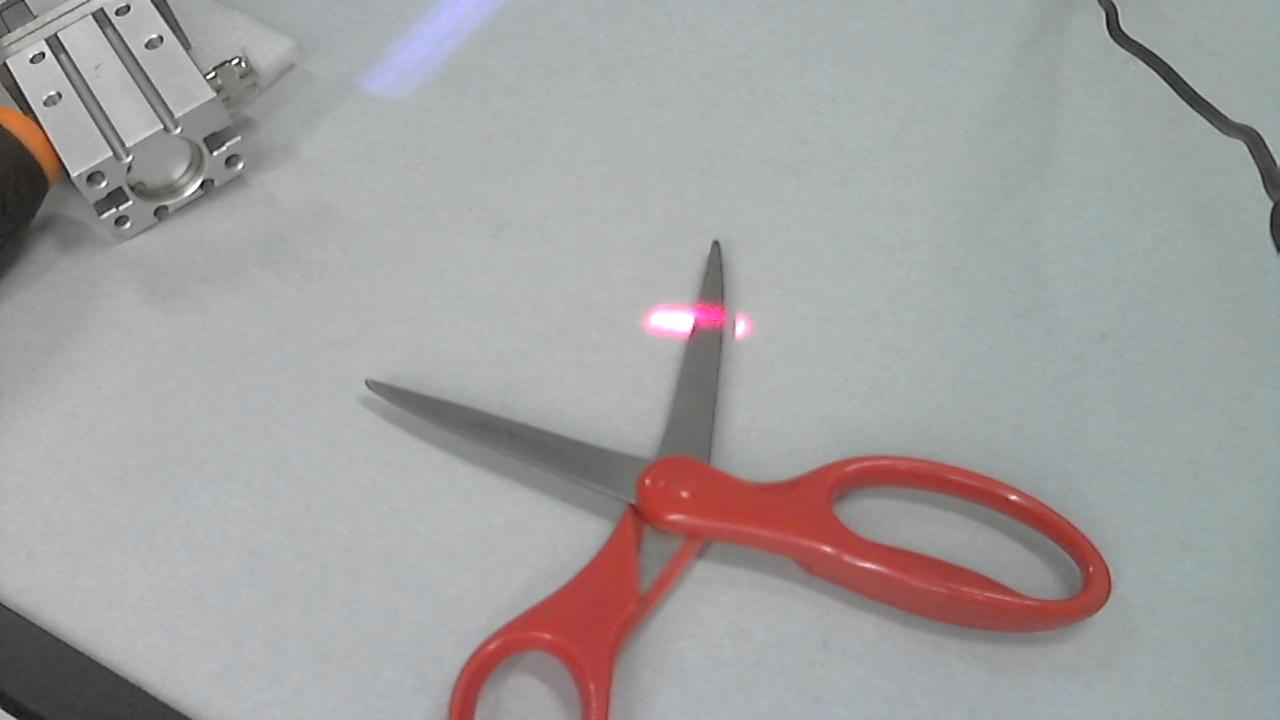Object tabletop - Material composite plastic - Pdfname jhjasdfwat: (653, 293, 752, 340)
